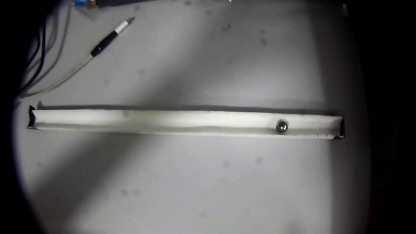gangzhu: (275, 118, 289, 133)
